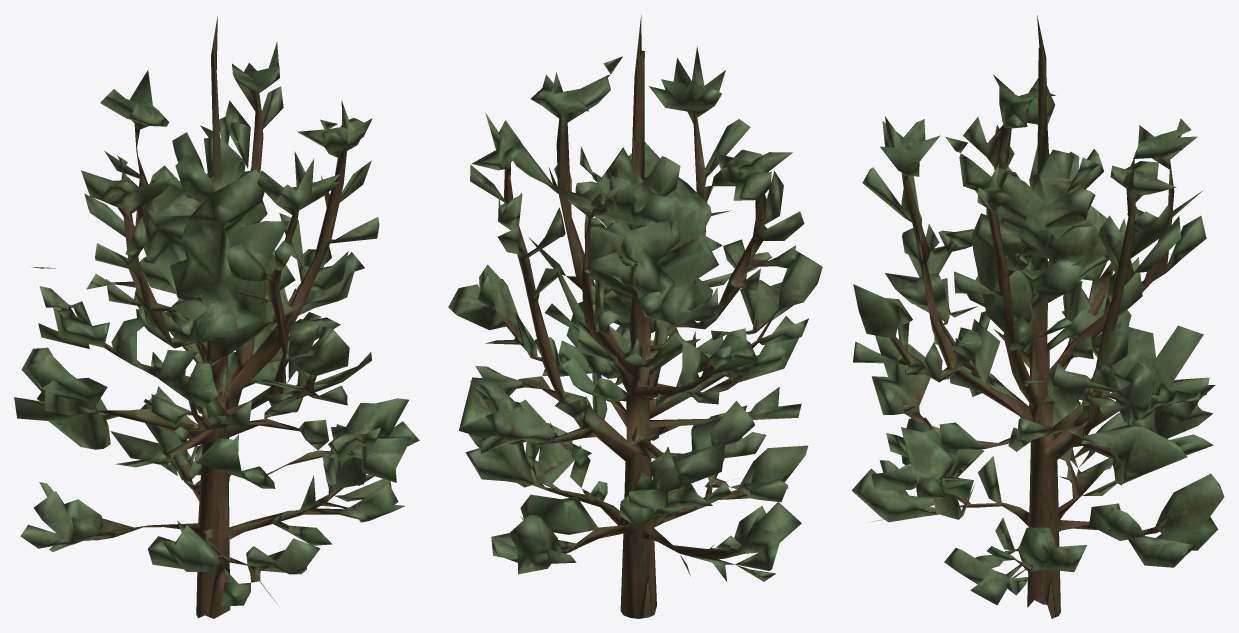
File: pine.glb
3 renders of one model, left to right at view 1: azimuth 30°, elevation 25°; view 2: azimuth 150°, elevation 25°; view 3: azimuth 270°, elevation 25°, orthographic.
Bounding box in the file's own units: 1.12 × 1.89 × 1.07.
1 material, 1 textured.
